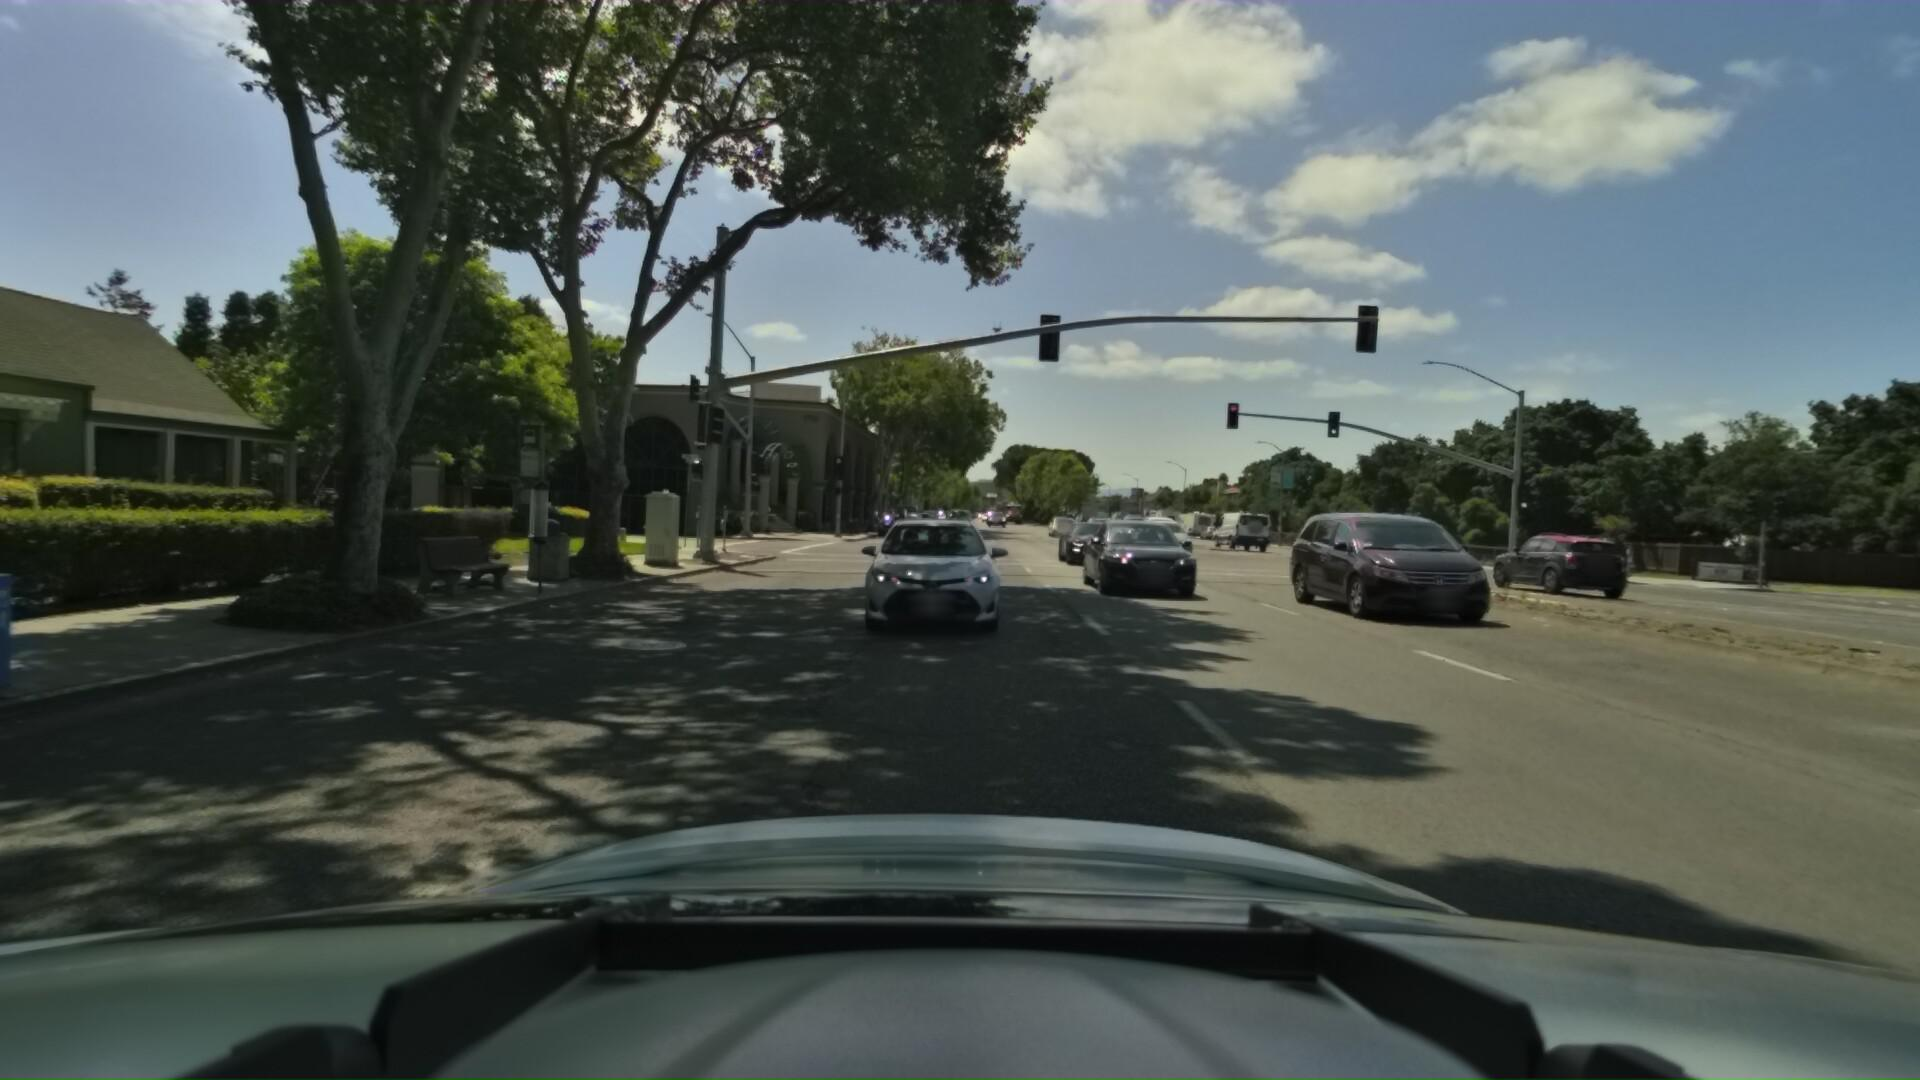car: (1261, 502, 1476, 622), (847, 510, 1001, 647), (1484, 516, 1644, 603), (1069, 508, 1185, 591), (1047, 512, 1118, 564), (882, 510, 948, 563), (1124, 510, 1192, 554), (1209, 506, 1273, 550), (318, 484, 376, 516), (1130, 510, 1182, 546), (876, 505, 914, 538), (887, 502, 924, 534), (1042, 512, 1077, 535), (944, 509, 973, 535), (942, 501, 969, 521)
